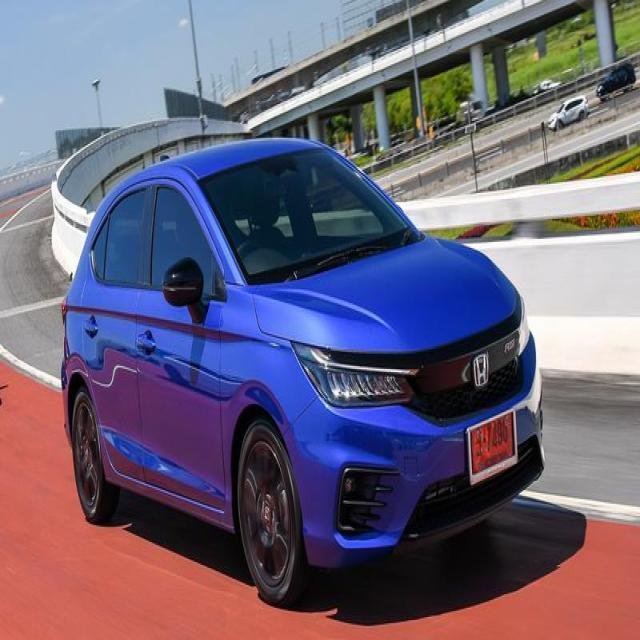Hatchback: (59, 141, 546, 611)
